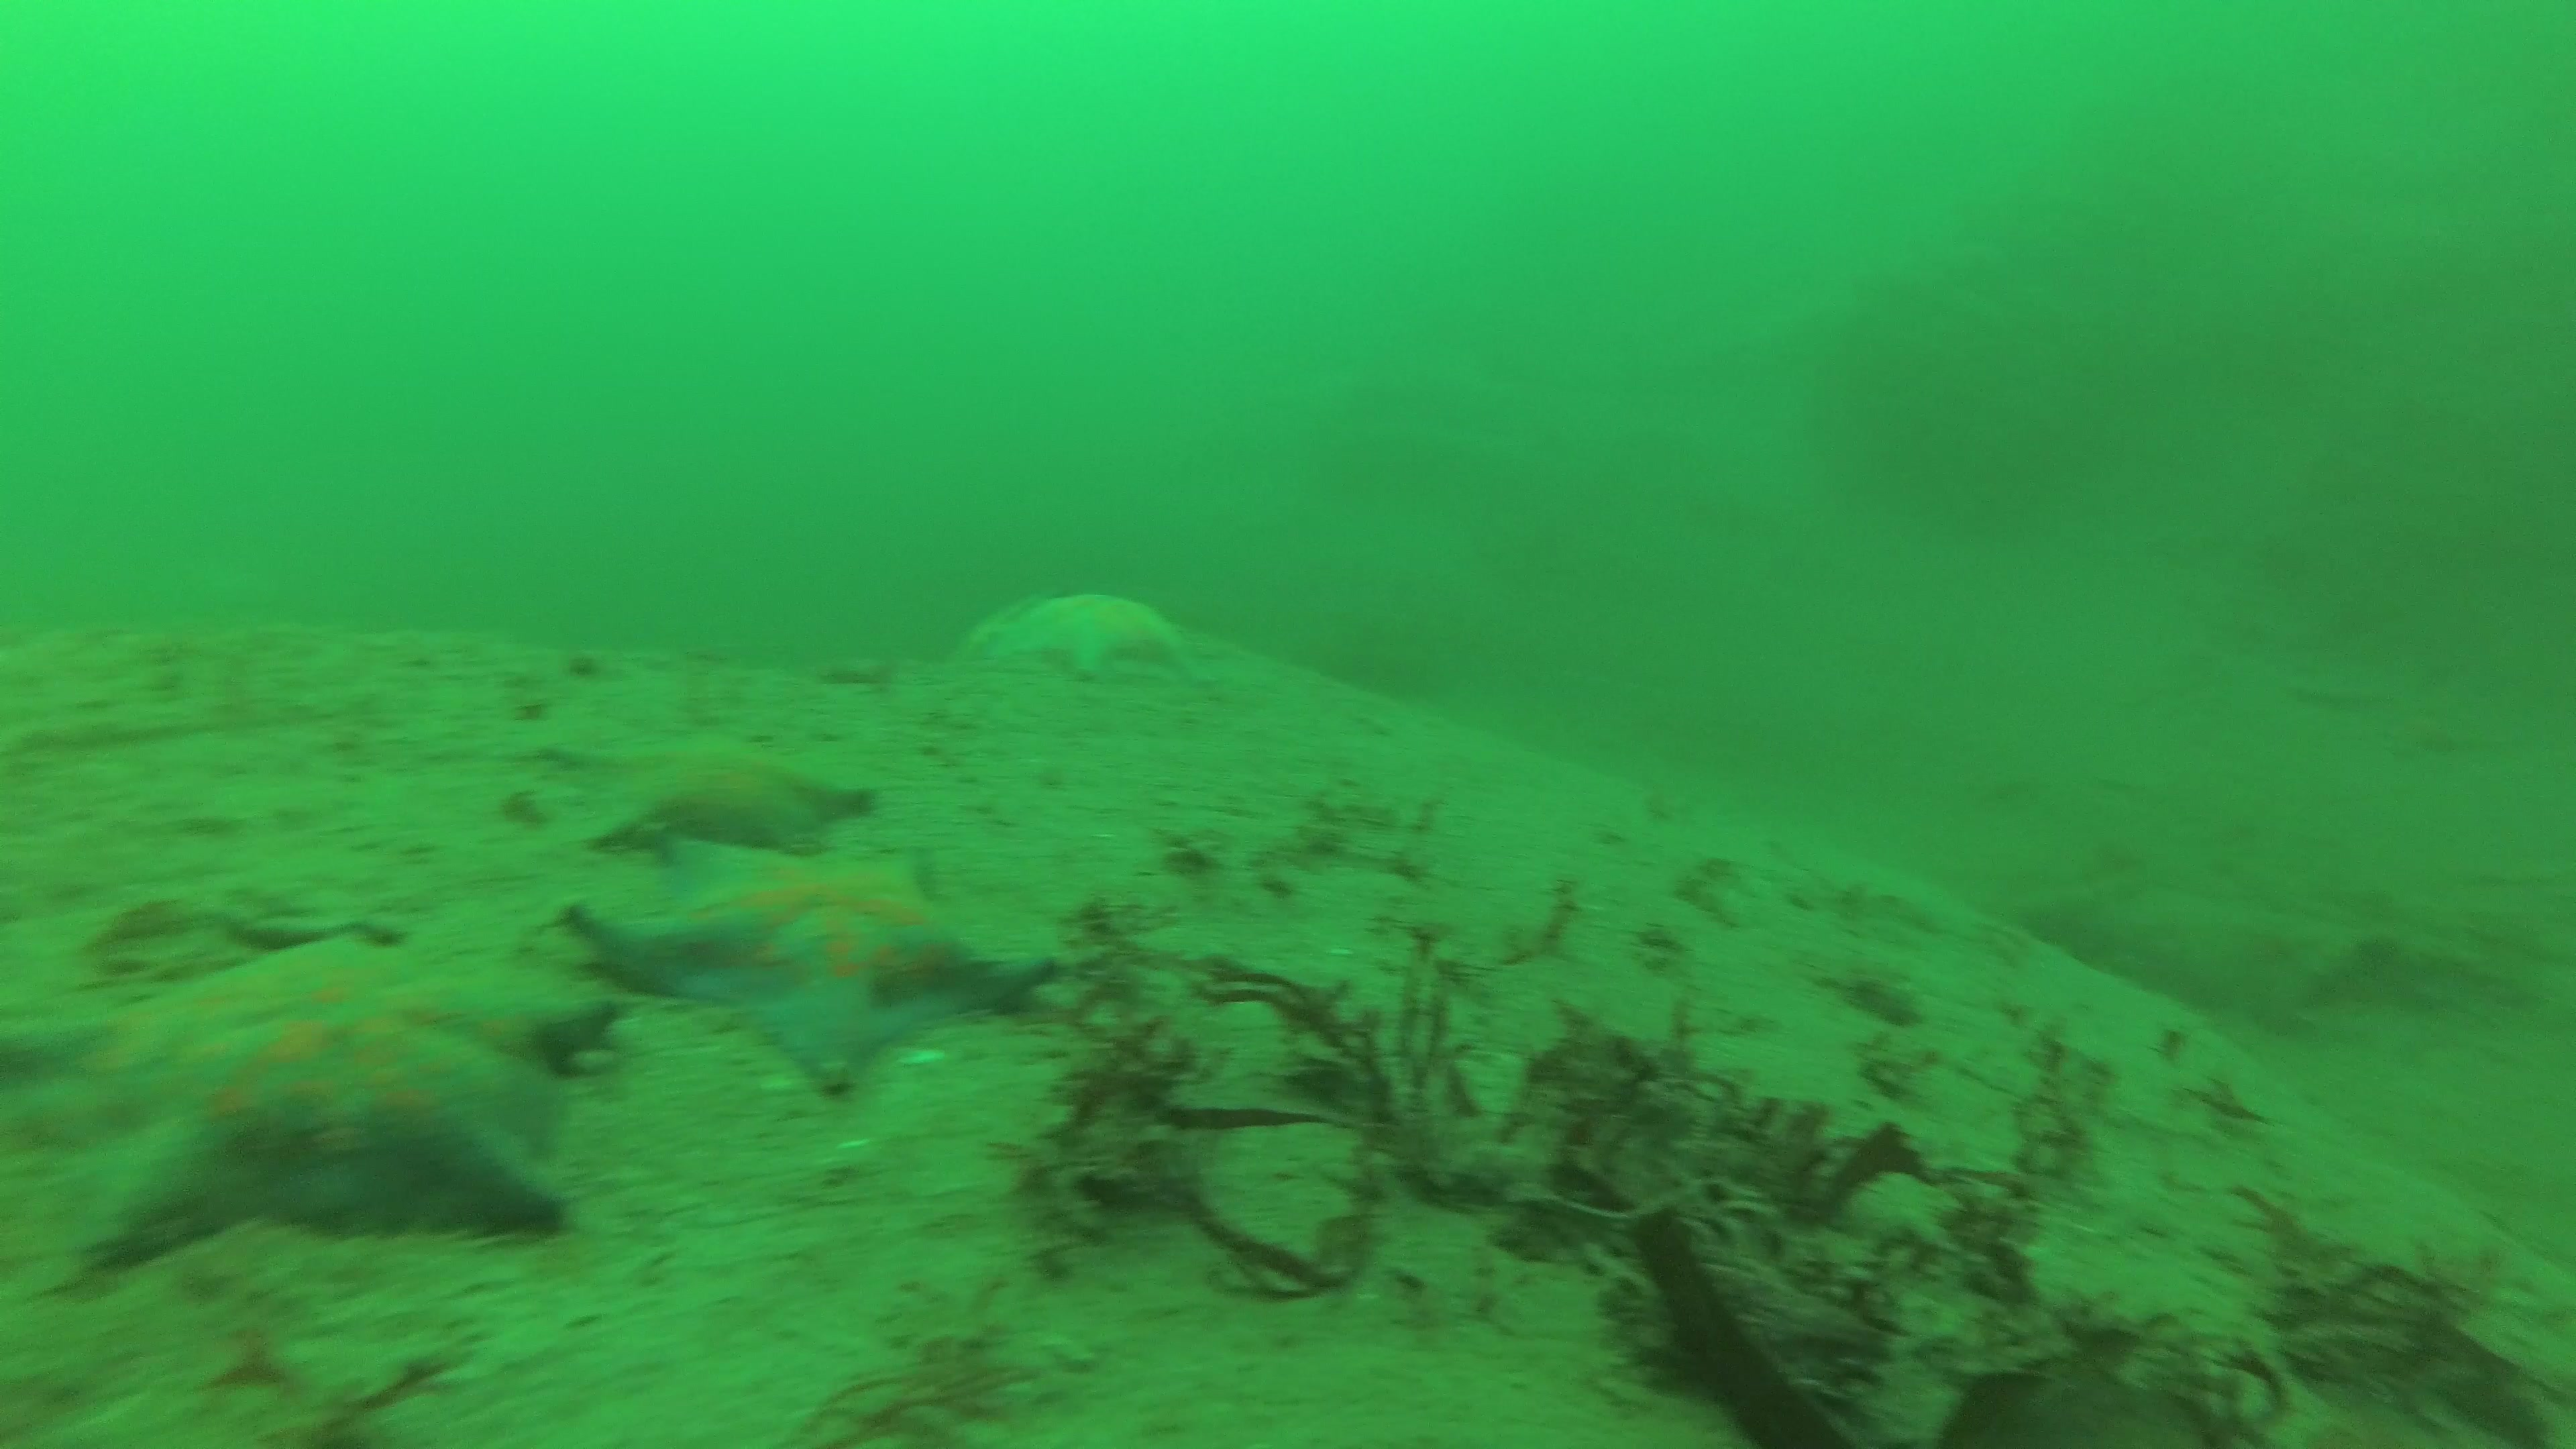starfish: (0, 918, 632, 1274), (566, 886, 1063, 1097), (538, 747, 874, 856), (968, 593, 1185, 672)
